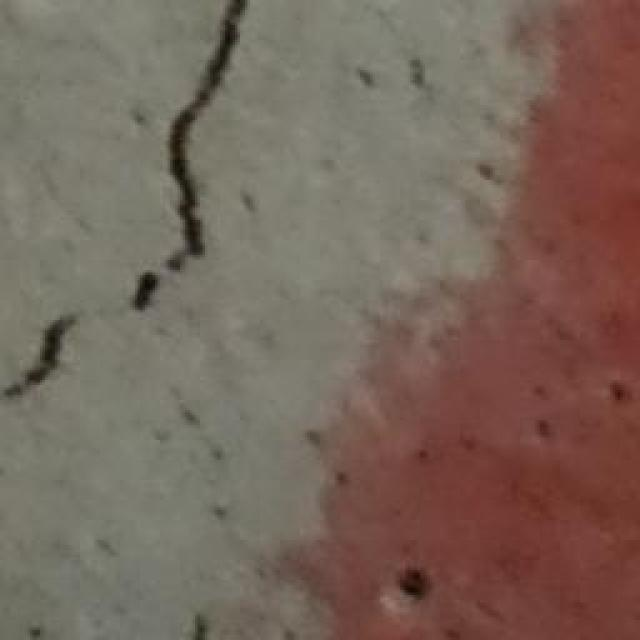Diagonal: (0, 0, 254, 408)
